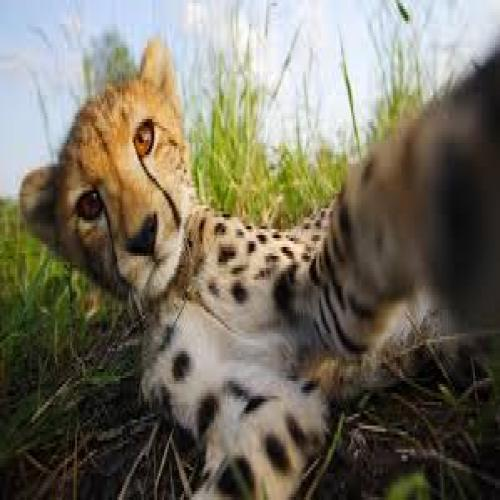cheetah-endangered: (30, 44, 500, 500)
